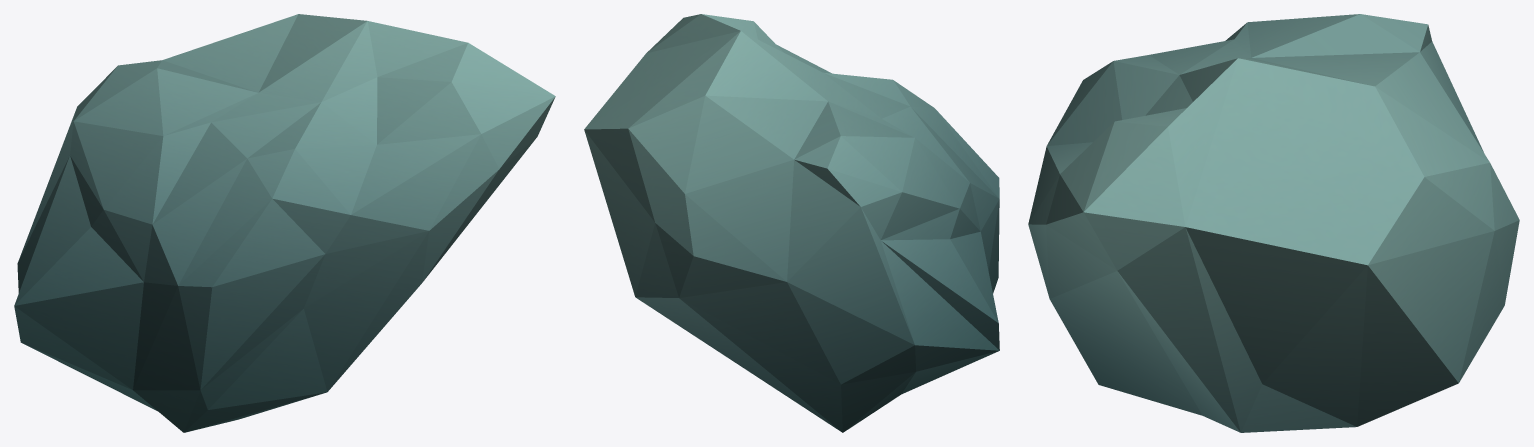
Rendered from stone4.fbx.
The picture shows the model from 3 angles, left to right: view 1: azimuth 30°, elevation 25°; view 2: azimuth 150°, elevation 25°; view 3: azimuth 270°, elevation 25°; orthographic projection. The views are drawn at different scales.
Parts seen in each view (by area): view 1: pPlatonic1; view 2: pPlatonic1; view 3: pPlatonic1.
Boxes of the visible parts, x1=… form: pPlatonic1: x1=14, y1=14, x2=555, y2=432; pPlatonic1: x1=584, y1=14, x2=999, y2=432; pPlatonic1: x1=1028, y1=14, x2=1519, y2=432.
Bounding box in the file's own units: 22.84 × 17.29 × 17.21.
1 material, 1 textured.
